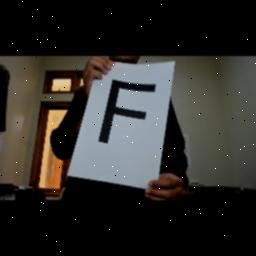f: (96, 73, 156, 157)
